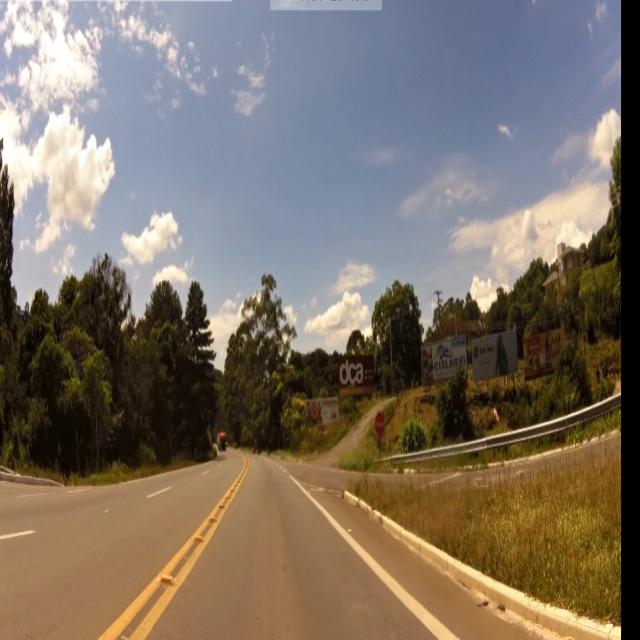R-1: (375, 413, 386, 439)
